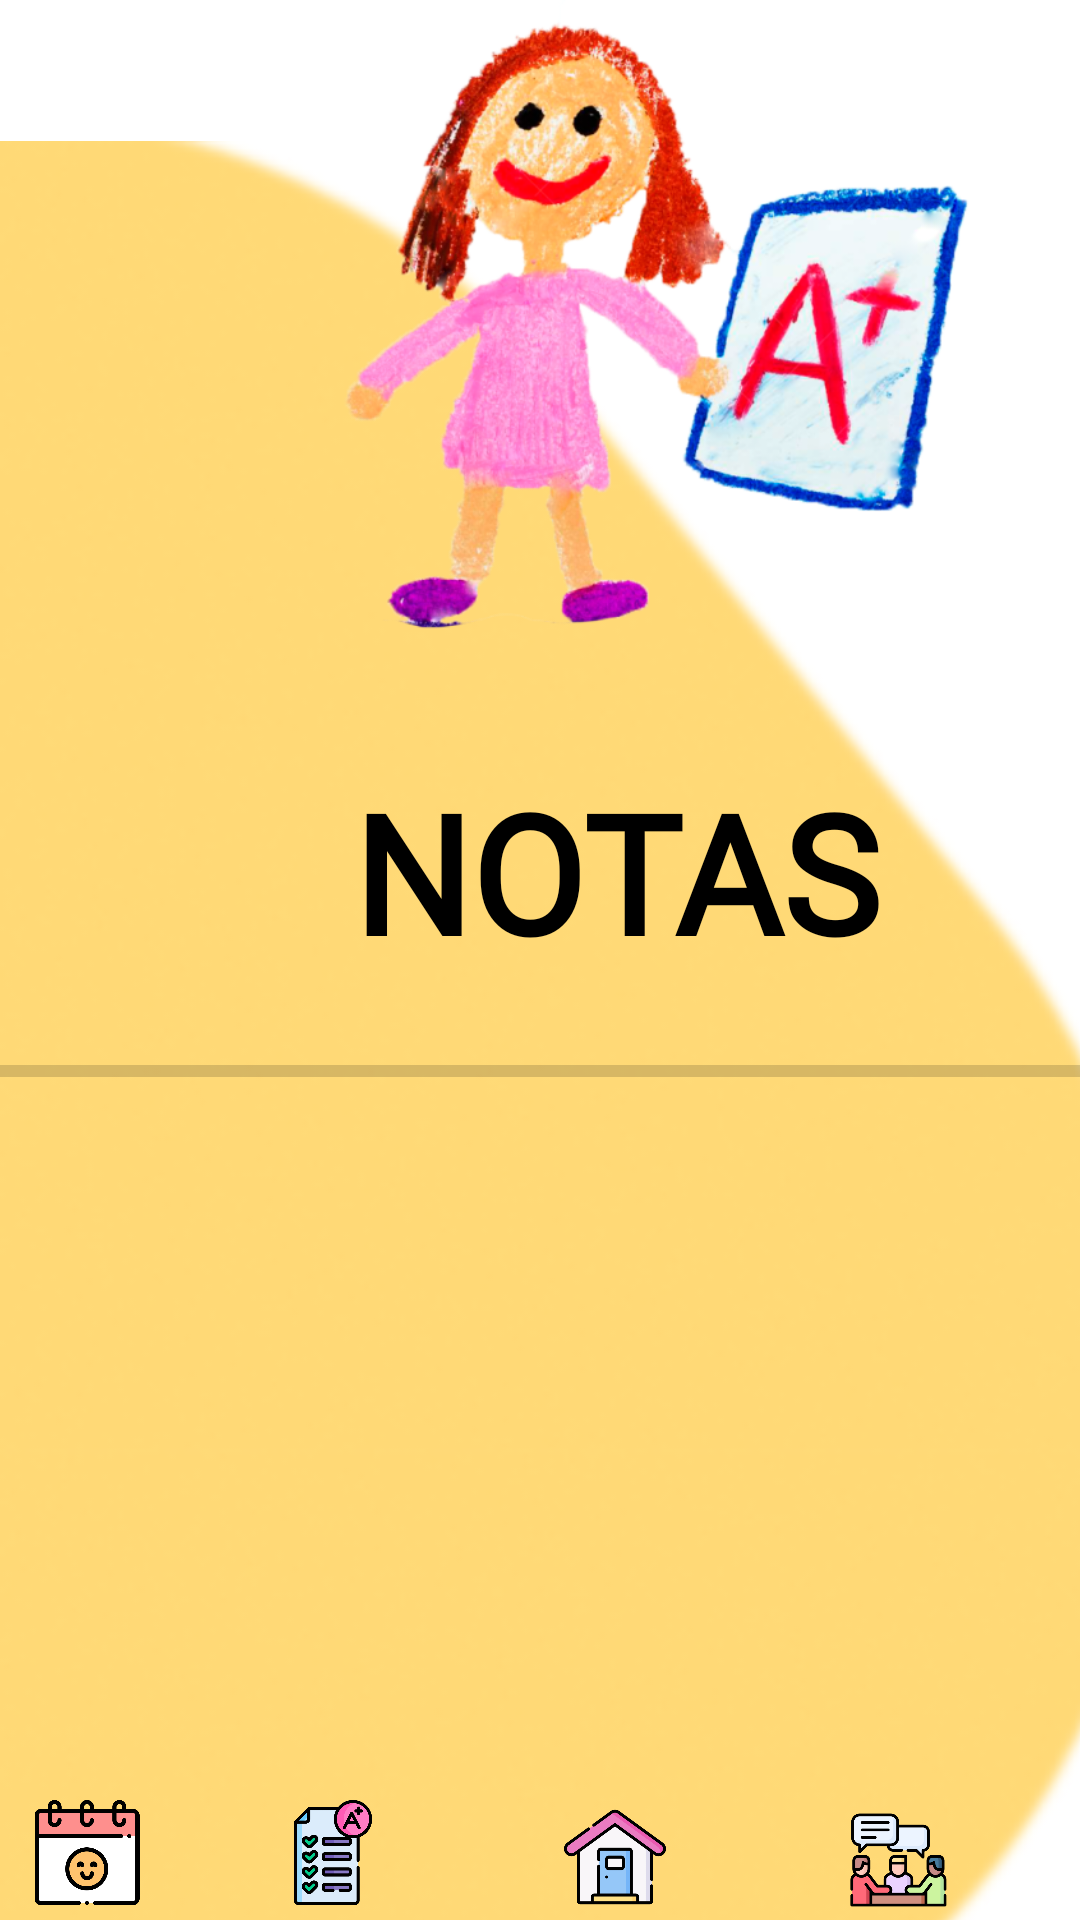

Icons on this 1080px×1920px Android screen, each with the point to tap as [x,y]:
bdenavecagao calendario: [87,1852]
bdenavecagao home: [615,1857]
bdenavecagao talkprofessor: [898,1860]
